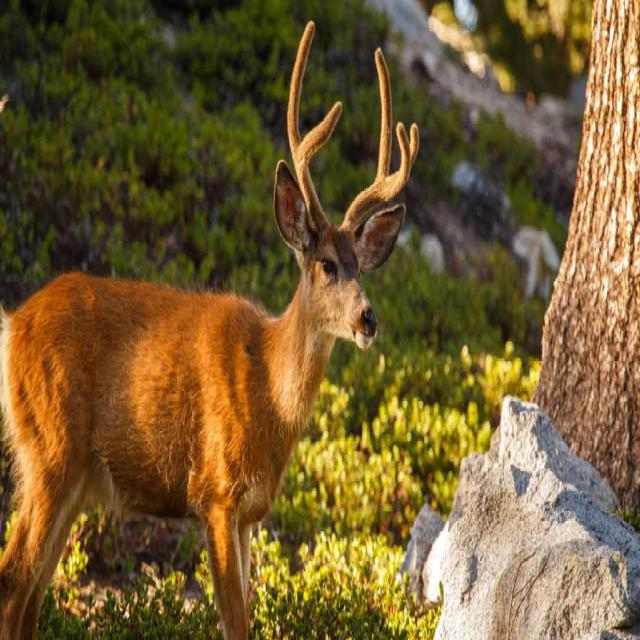Deer: (0, 21, 419, 640)
